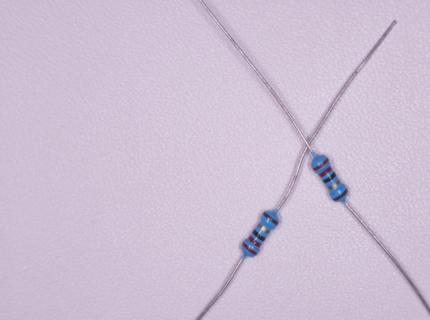Black band: (252, 230, 266, 242), (323, 172, 336, 184)
Brown band: (263, 212, 279, 226), (333, 188, 348, 202)
Gold band: (328, 179, 341, 191), (257, 223, 271, 234)
Red band: (242, 242, 258, 256), (313, 158, 329, 171), (248, 236, 261, 248), (319, 166, 332, 178)
